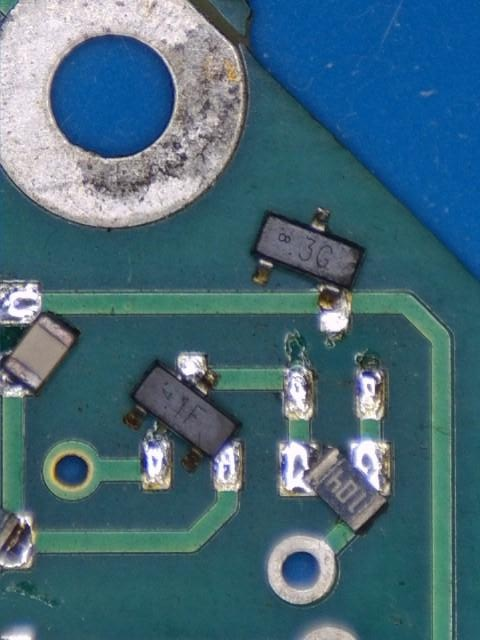pcb_defect: (122, 355, 243, 491), (251, 206, 367, 333), (278, 441, 393, 534), (0, 281, 79, 398), (0, 507, 34, 571)
